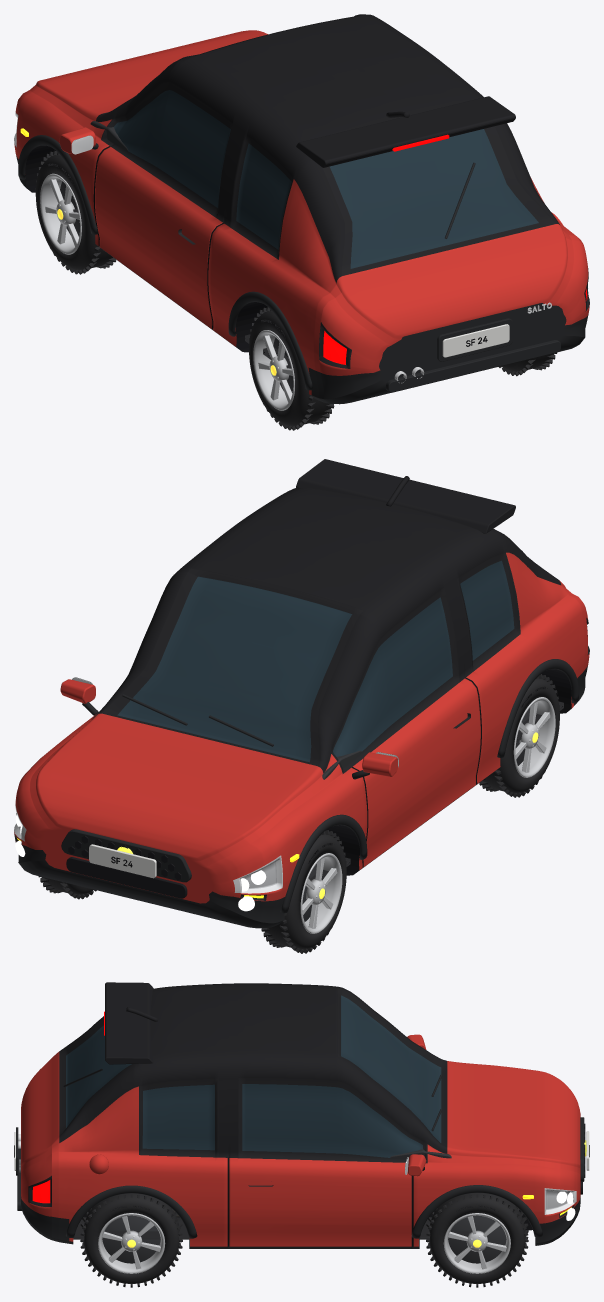
File: auto.glb
3 views of the same model, one above another, from view 1: azimuth 30°, elevation 25°; view 2: azimuth 150°, elevation 25°; view 3: azimuth 270°, elevation 25° (orthographic). The views are drawn at different scales.
Parts seen in each view (by area): view 1: Carroceria, Rueda_TI, Rueda_DI, Rueda_TD; view 2: Carroceria, Rueda_DI, Rueda_TI; view 3: Carroceria, Rueda_DD, Rueda_TD.
Boxes of the visible parts, x1=… form: Carroceria: x1=14, y1=14, x2=589, y2=404; Rueda_TI: x1=249, y1=307, x2=334, y2=430; Rueda_DI: x1=35, y1=150, x2=116, y2=274; Rueda_TD: x1=499, y1=352, x2=556, y2=376; Carroceria: x1=14, y1=459, x2=589, y2=928; Rueda_DI: x1=261, y1=830, x2=346, y2=953; Rueda_TI: x1=479, y1=674, x2=559, y2=797; Carroceria: x1=14, y1=982, x2=589, y2=1248; Rueda_DD: x1=426, y1=1193, x2=528, y2=1287; Rueda_TD: x1=80, y1=1193, x2=182, y2=1287.
Bounding box in the file's own units: 2.49 × 2.05 × 4.63.
